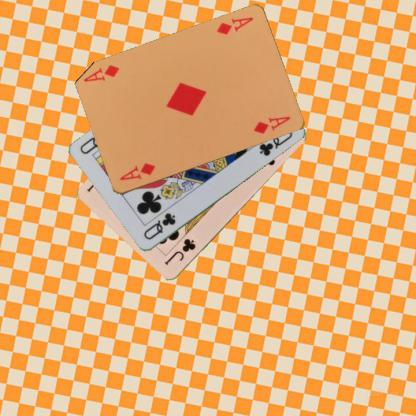Ad: (116, 160, 156, 182), (214, 14, 254, 36)
Jc: (162, 236, 198, 266)
Qc: (141, 210, 177, 242)
